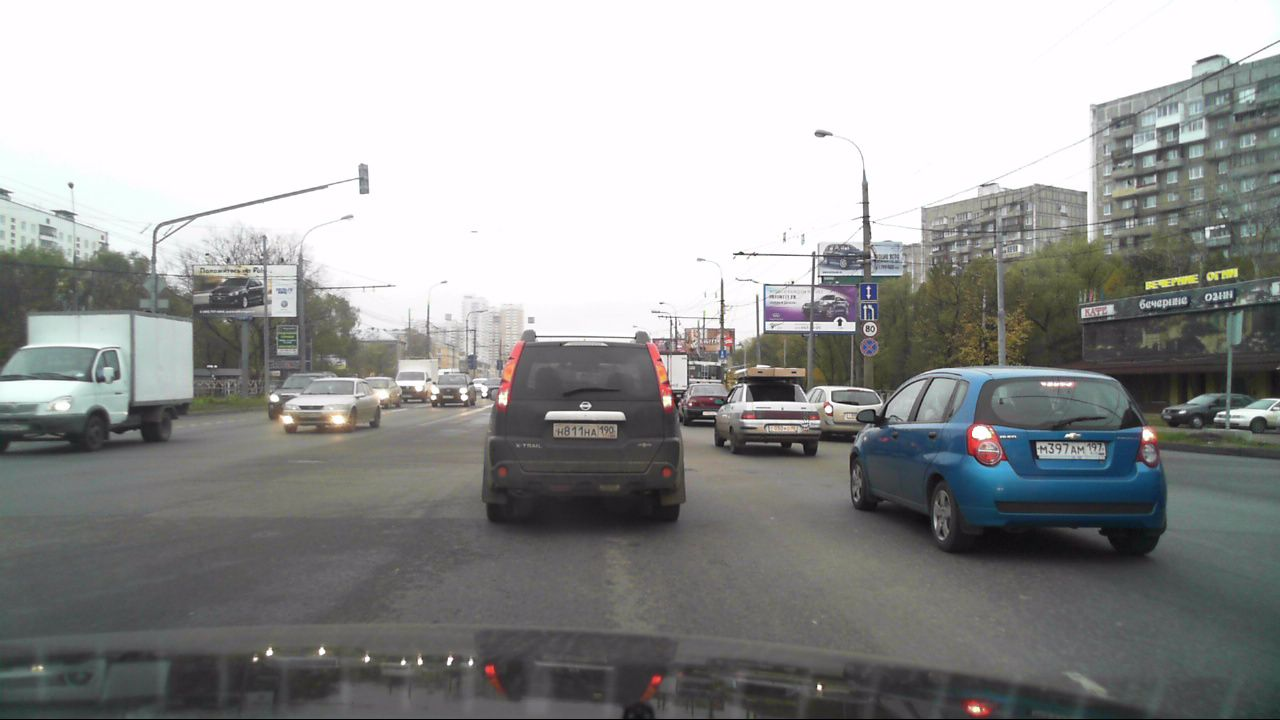No Parking: (860, 340, 878, 357)
